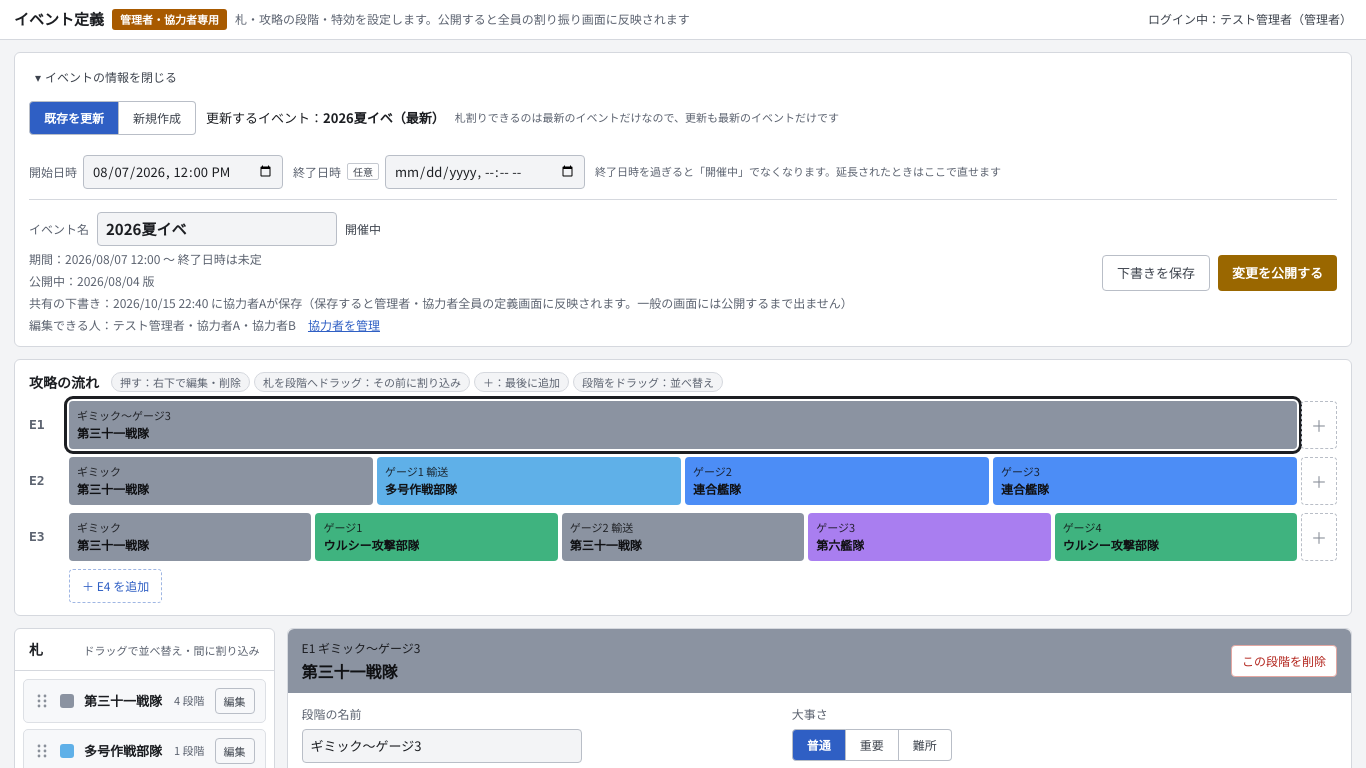
Scenario: イベント定義の画面（PlanEditor）：レビュー・Codex の指摘の直し方 › 4. 新規作成の 1 回目の保存（createEvent）の間は、イベント名・日時の欄を操作できない（Codex） › 「下書きを保存」でイベントを作成している間はイベント名・開始日時・終了日時の欄を操作できず、作成が終わったら入力した値のまま操作できるようになる
Expected: the element "攻略の流れ" is shown, [14,358,1352,616]
Click the radio button labelled "新規作成".
click(158, 118)  # box [119,100,196,134]
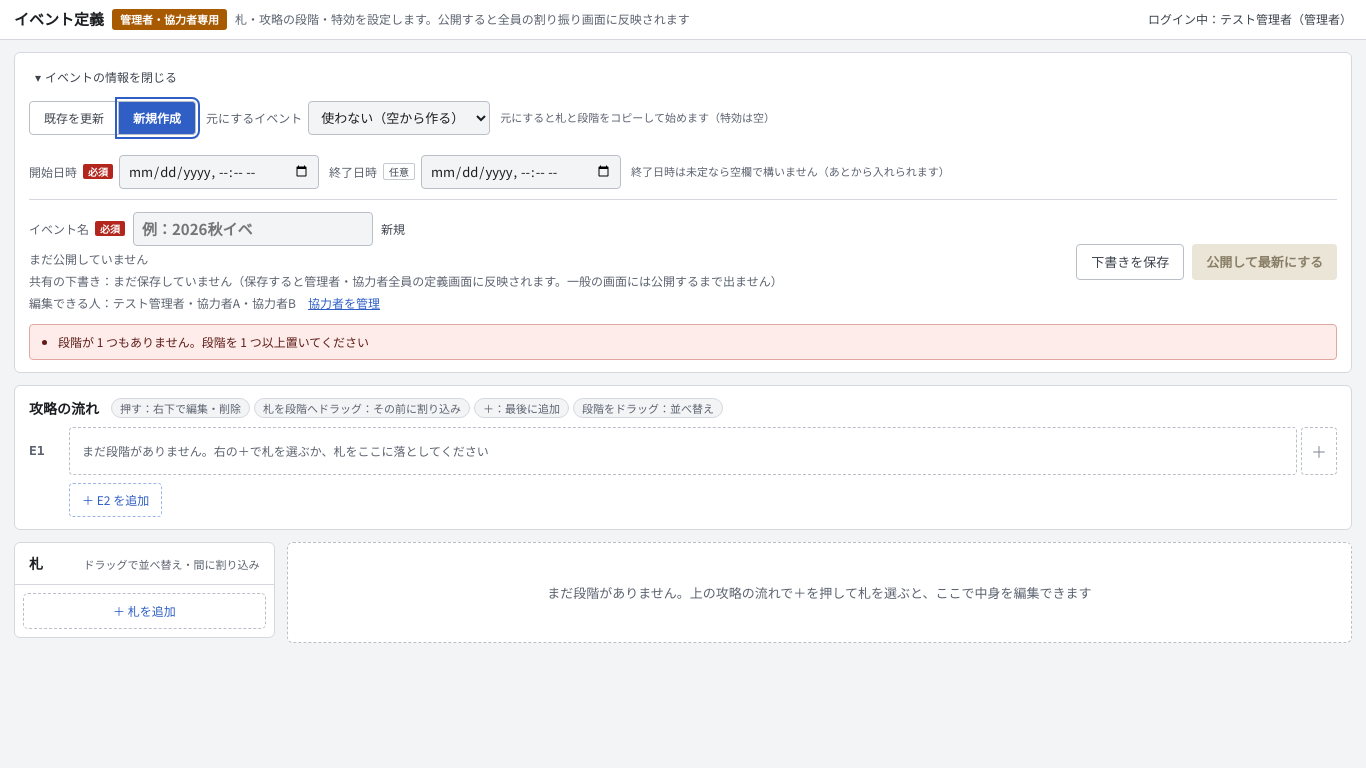
Type "2026秋イベ" into the field named "イベント名".
click(253, 228); type("2026秋イベ")  # box [133,212,373,246]
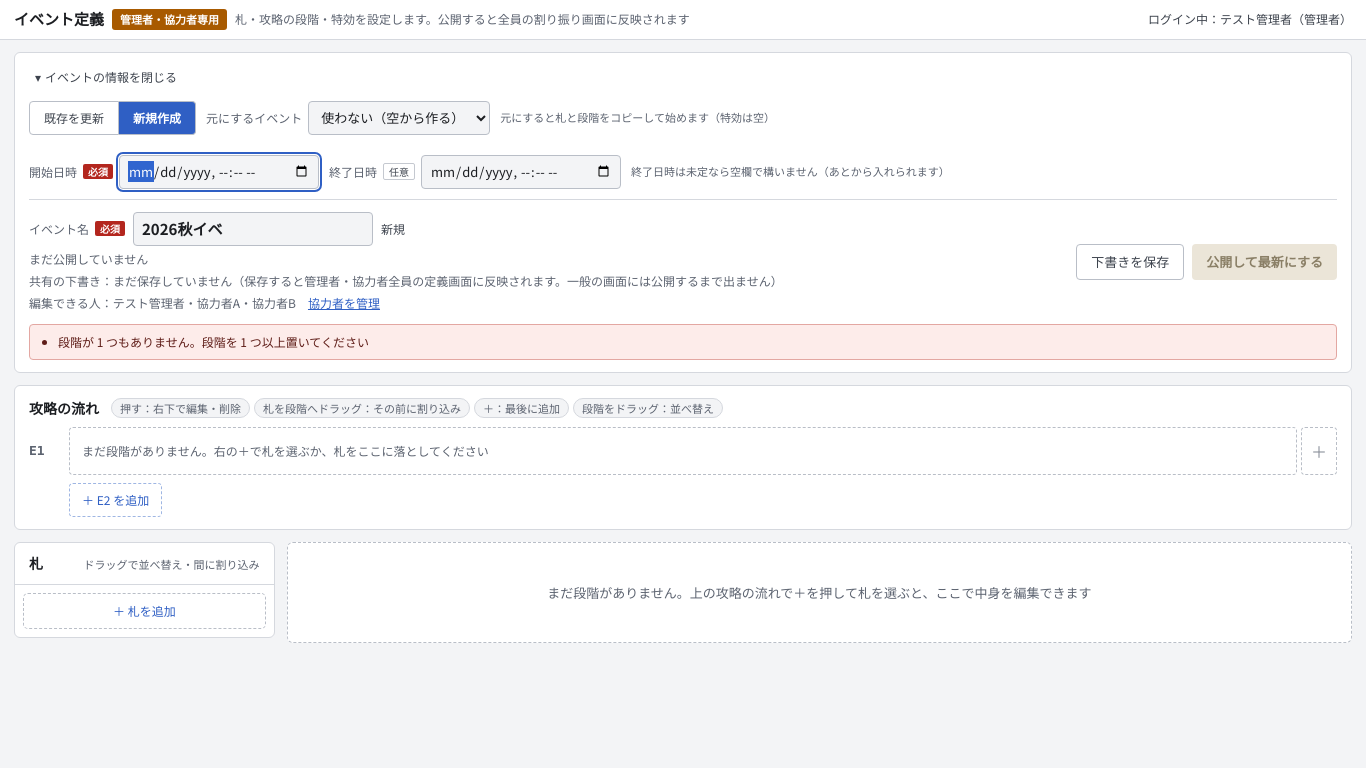
Type "2026-11-14T11:00" into the field labelled "開始日時 必須".
click(219, 172); type("2026-11-14T11:00")  # box [119,154,319,188]
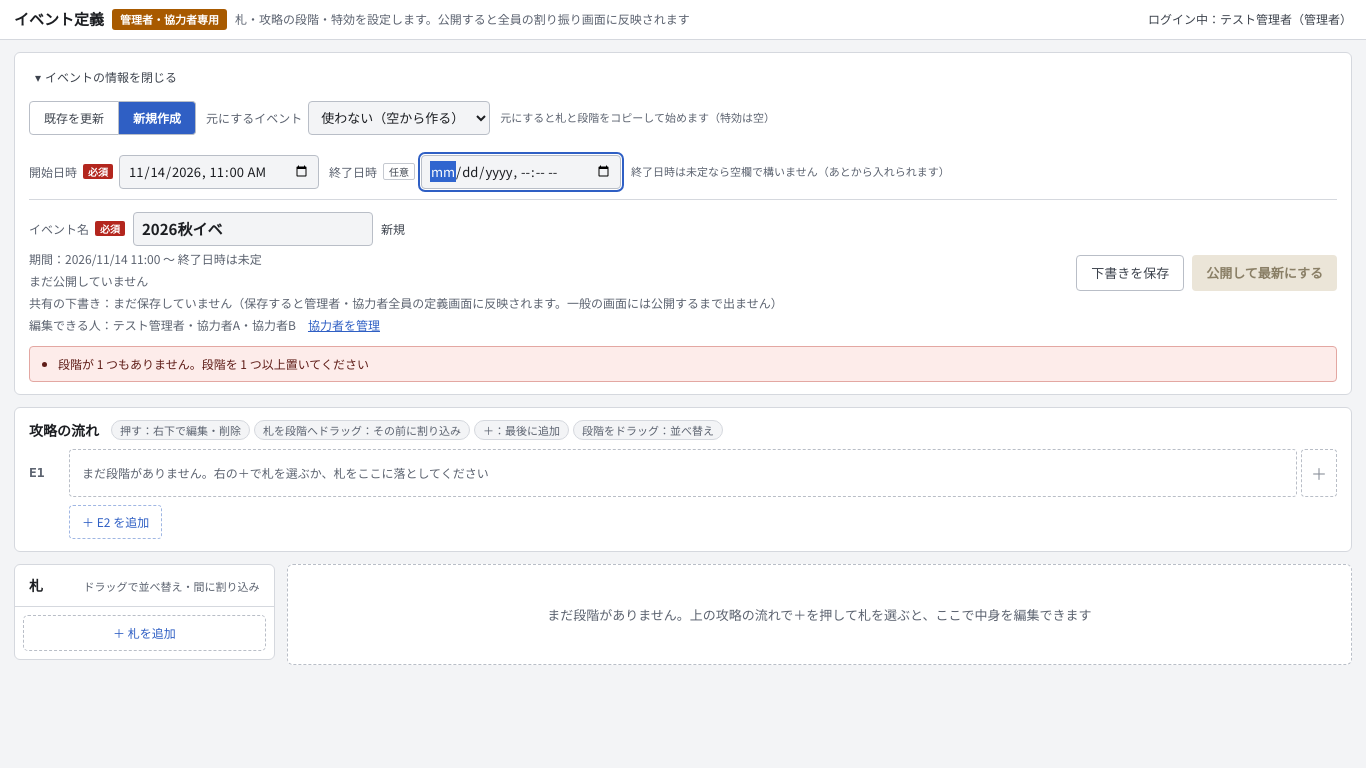
Type "2026-12-02T11:00" into the field labelled "終了日時 任意".
click(521, 172); type("2026-12-02T11:00")  # box [421,154,621,188]
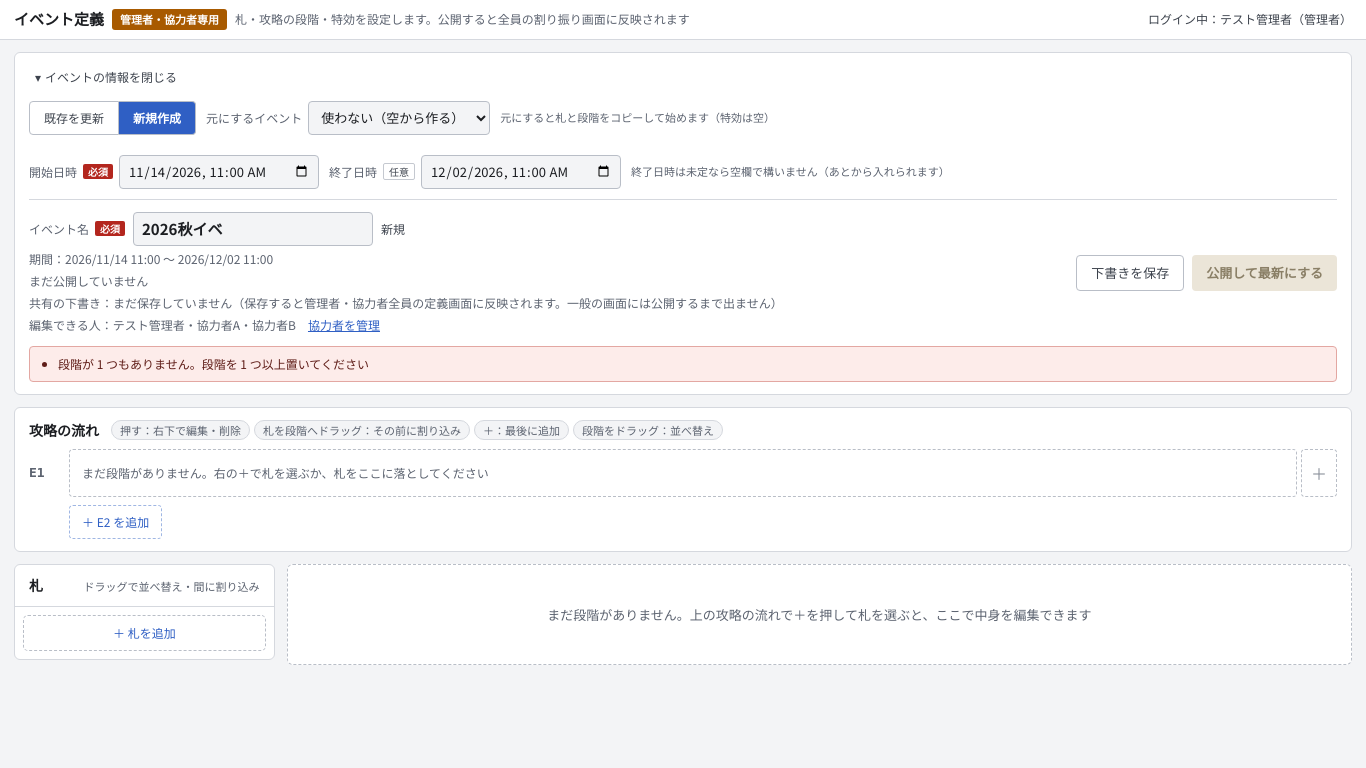
Click the button "下書きを保存".
click(1130, 272)  # box [1076,254,1184,290]
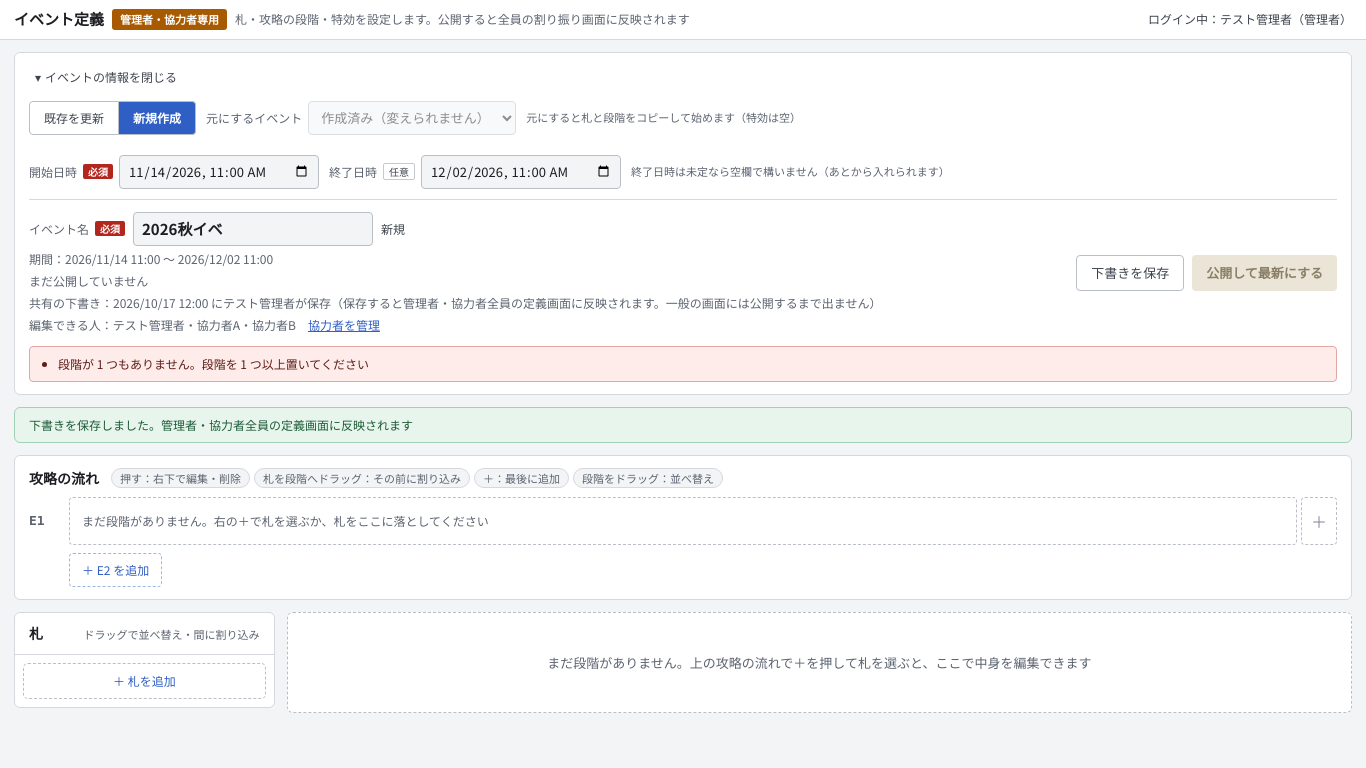
Result: the message "下書きを保存しました。管理者・協力者全員の定義画面に反映されます" is shown at [14,406,1352,442]
